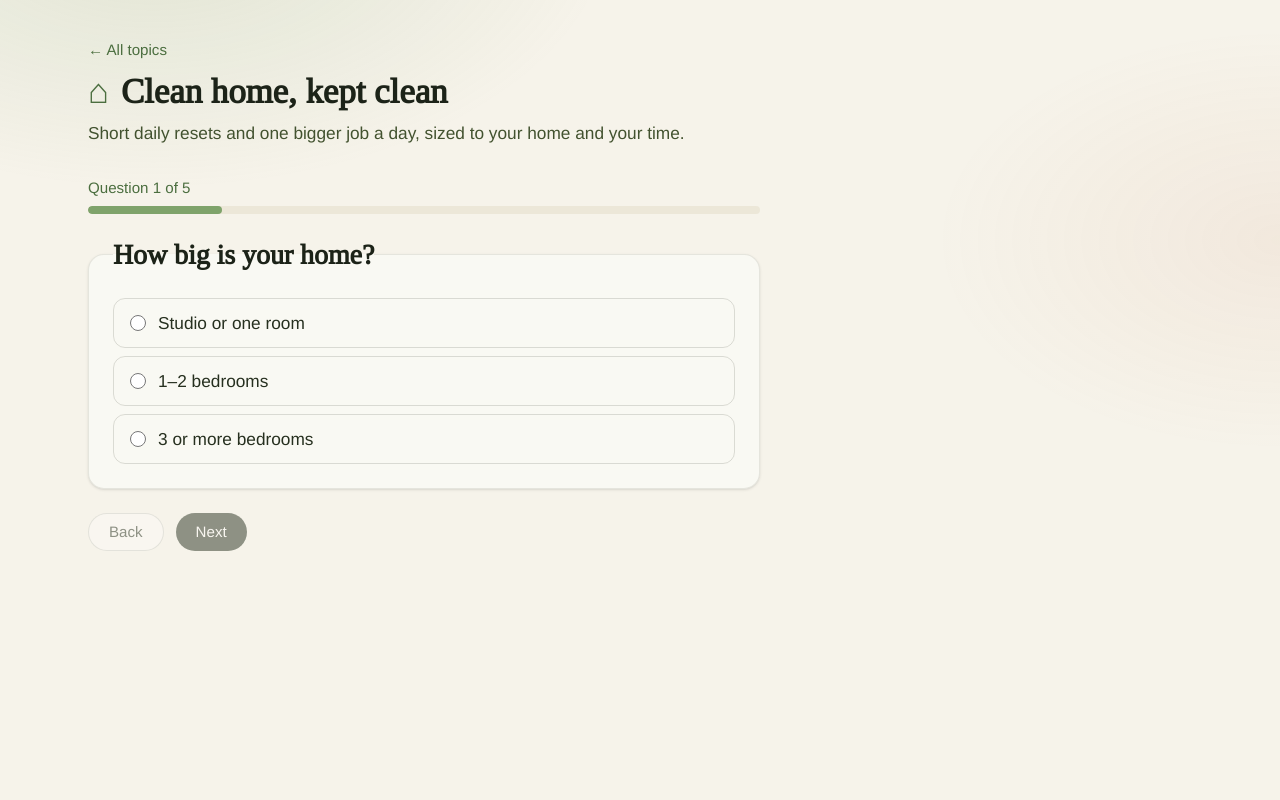
Test: <TasksPage> questionnaire → plan › Back keeps the answer given; Next stays disabled until a single choice is made
expect the element "How big is your home?" is shown: met, box [88, 238, 760, 489]
Click the radio button labelled "3 or more bedrooms": (138,439) [130, 431, 146, 447]
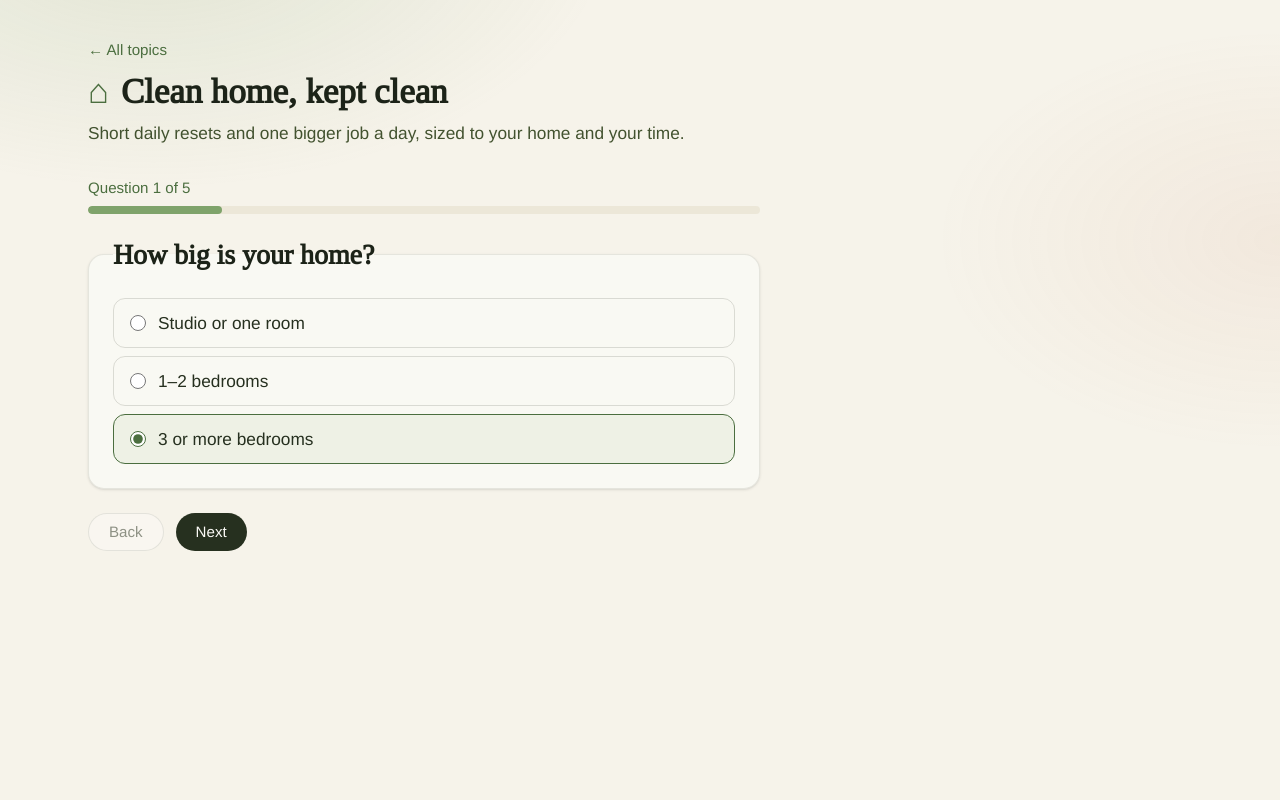
Click the button "Next": (211,532) [176, 513, 247, 551]
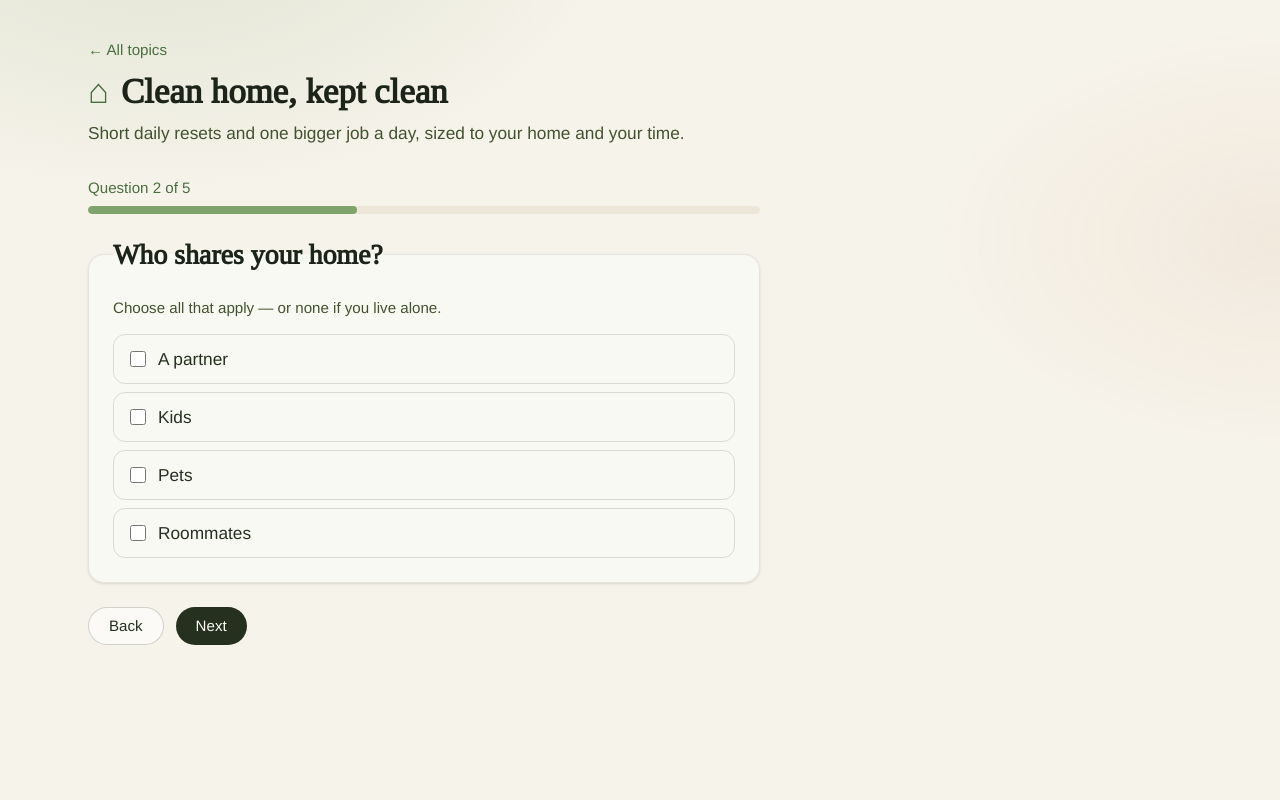
expect the element "Who shares your home?" is shown: met, box [88, 238, 760, 583]
Click the button "Back": (126,626) [88, 607, 164, 645]
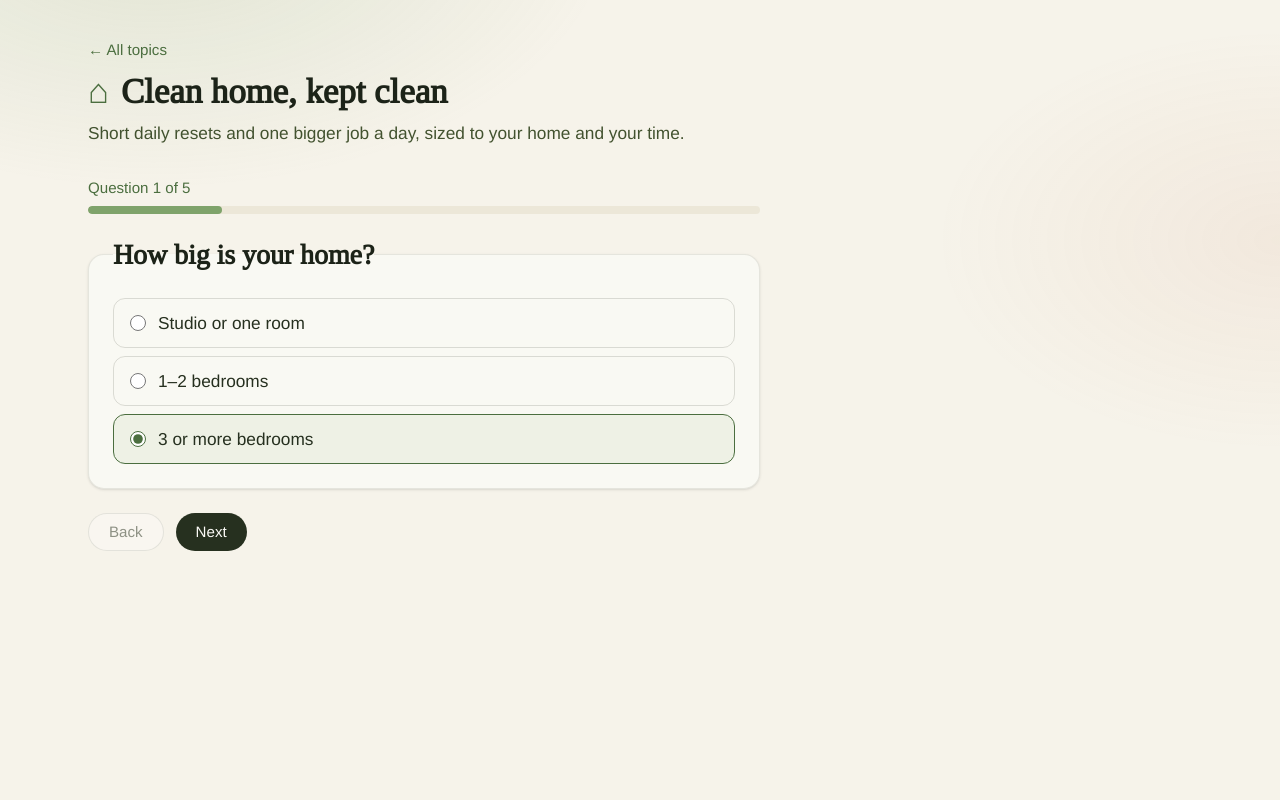
expect the radio button labelled "3 or more bedrooms" is checked: met, box [130, 431, 146, 447]
